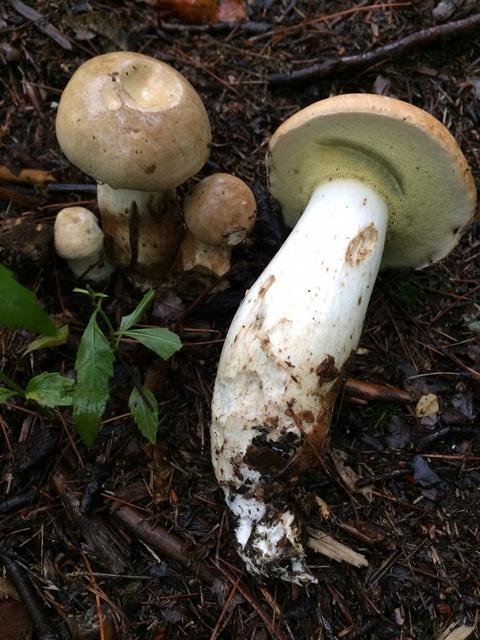Edible Mushroom: (208, 91, 477, 586), (53, 49, 212, 282), (178, 171, 257, 278), (52, 204, 114, 284)
